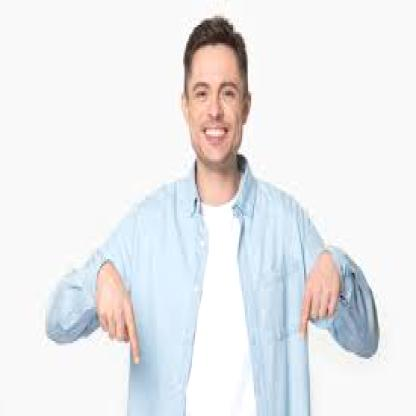Down: (88, 253, 150, 370), (289, 236, 343, 356)
